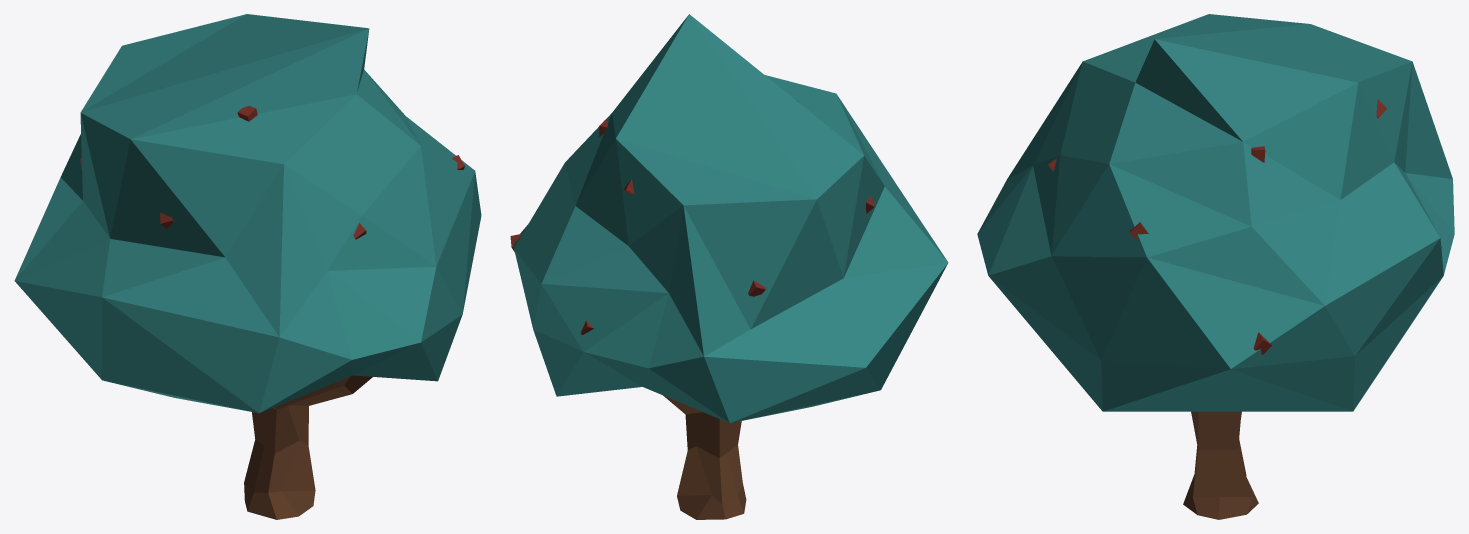
Rendered from Tree_26_Blue.fbx.
3 renders of one model, left to right at view 1: azimuth 30°, elevation 25°; view 2: azimuth 150°, elevation 25°; view 3: azimuth 270°, elevation 25°, orthographic. The views are drawn at different scales.
Parts seen in each view (by area): view 1: Tree_26_Blue_Part_1, Tree_26_Blue_Part_2, Tree_26_Blue_Part_3; view 2: Tree_26_Blue_Part_1, Tree_26_Blue_Part_2, Tree_26_Blue_Part_3; view 3: Tree_26_Blue_Part_1, Tree_26_Blue_Part_2, Tree_26_Blue_Part_3.
Boxes of the visible parts, box(x1,y1,x2,y2) form: Tree_26_Blue_Part_1: box(14, 14, 481, 413); Tree_26_Blue_Part_2: box(244, 375, 372, 519); Tree_26_Blue_Part_3: box(80, 105, 464, 239); Tree_26_Blue_Part_1: box(513, 14, 948, 423); Tree_26_Blue_Part_2: box(663, 395, 746, 519); Tree_26_Blue_Part_3: box(510, 101, 874, 334); Tree_26_Blue_Part_1: box(977, 14, 1454, 411); Tree_26_Blue_Part_2: box(1183, 411, 1258, 519); Tree_26_Blue_Part_3: box(1048, 99, 1441, 354).
Bounding box in the file's own units: 717 × 789 × 692.
